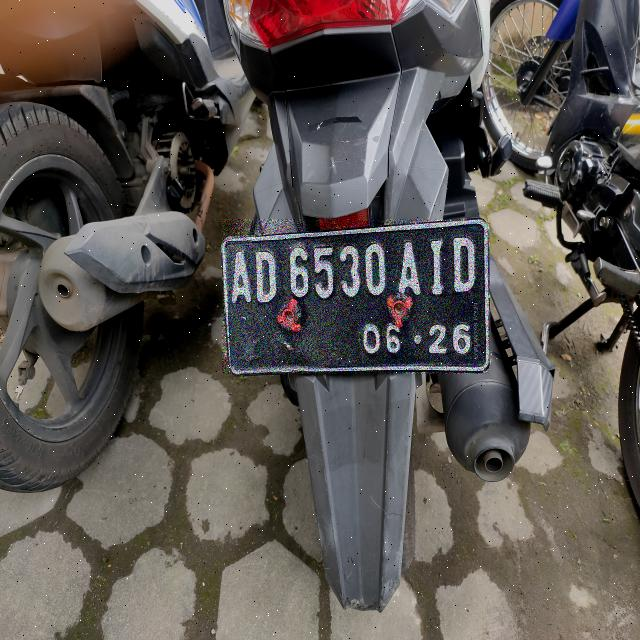plate: (222, 220, 488, 373)
